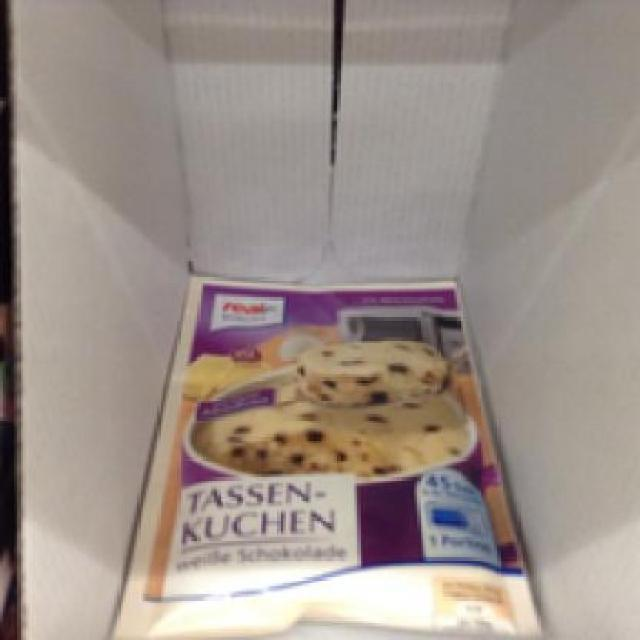Cake: (106, 268, 540, 638)
